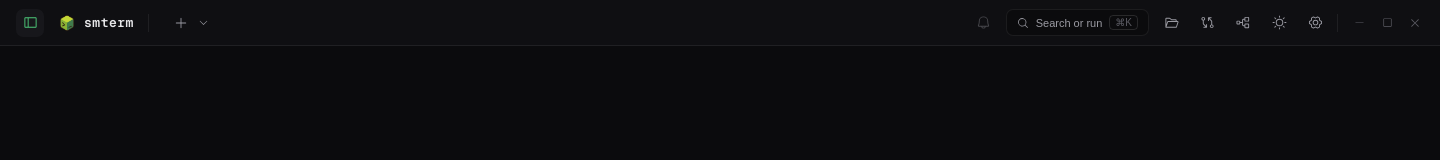
TopBar › the shell menu opens and spawns a chosen shell
The width and height of the screenshot is (1440, 160).
Click the button titled "New tab in…".
click(204, 22)  # box [195, 8, 213, 36]
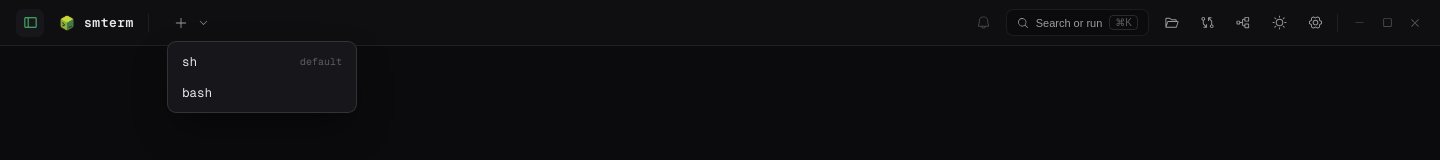
Now the element with class "shell-menu" is shown, box [167, 40, 357, 112]
Press the mouse on the button "bash" at (262, 92), box [172, 76, 352, 108]
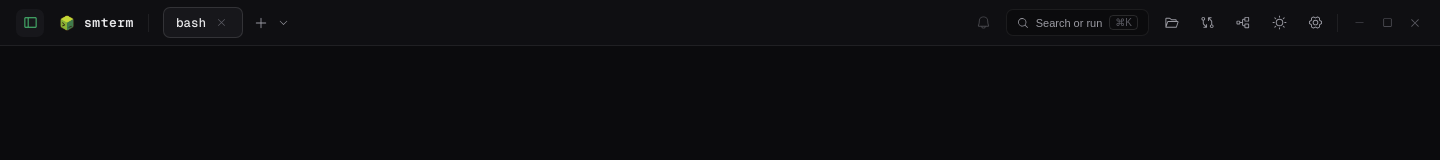
Now the element with class "shell-menu" is gone
